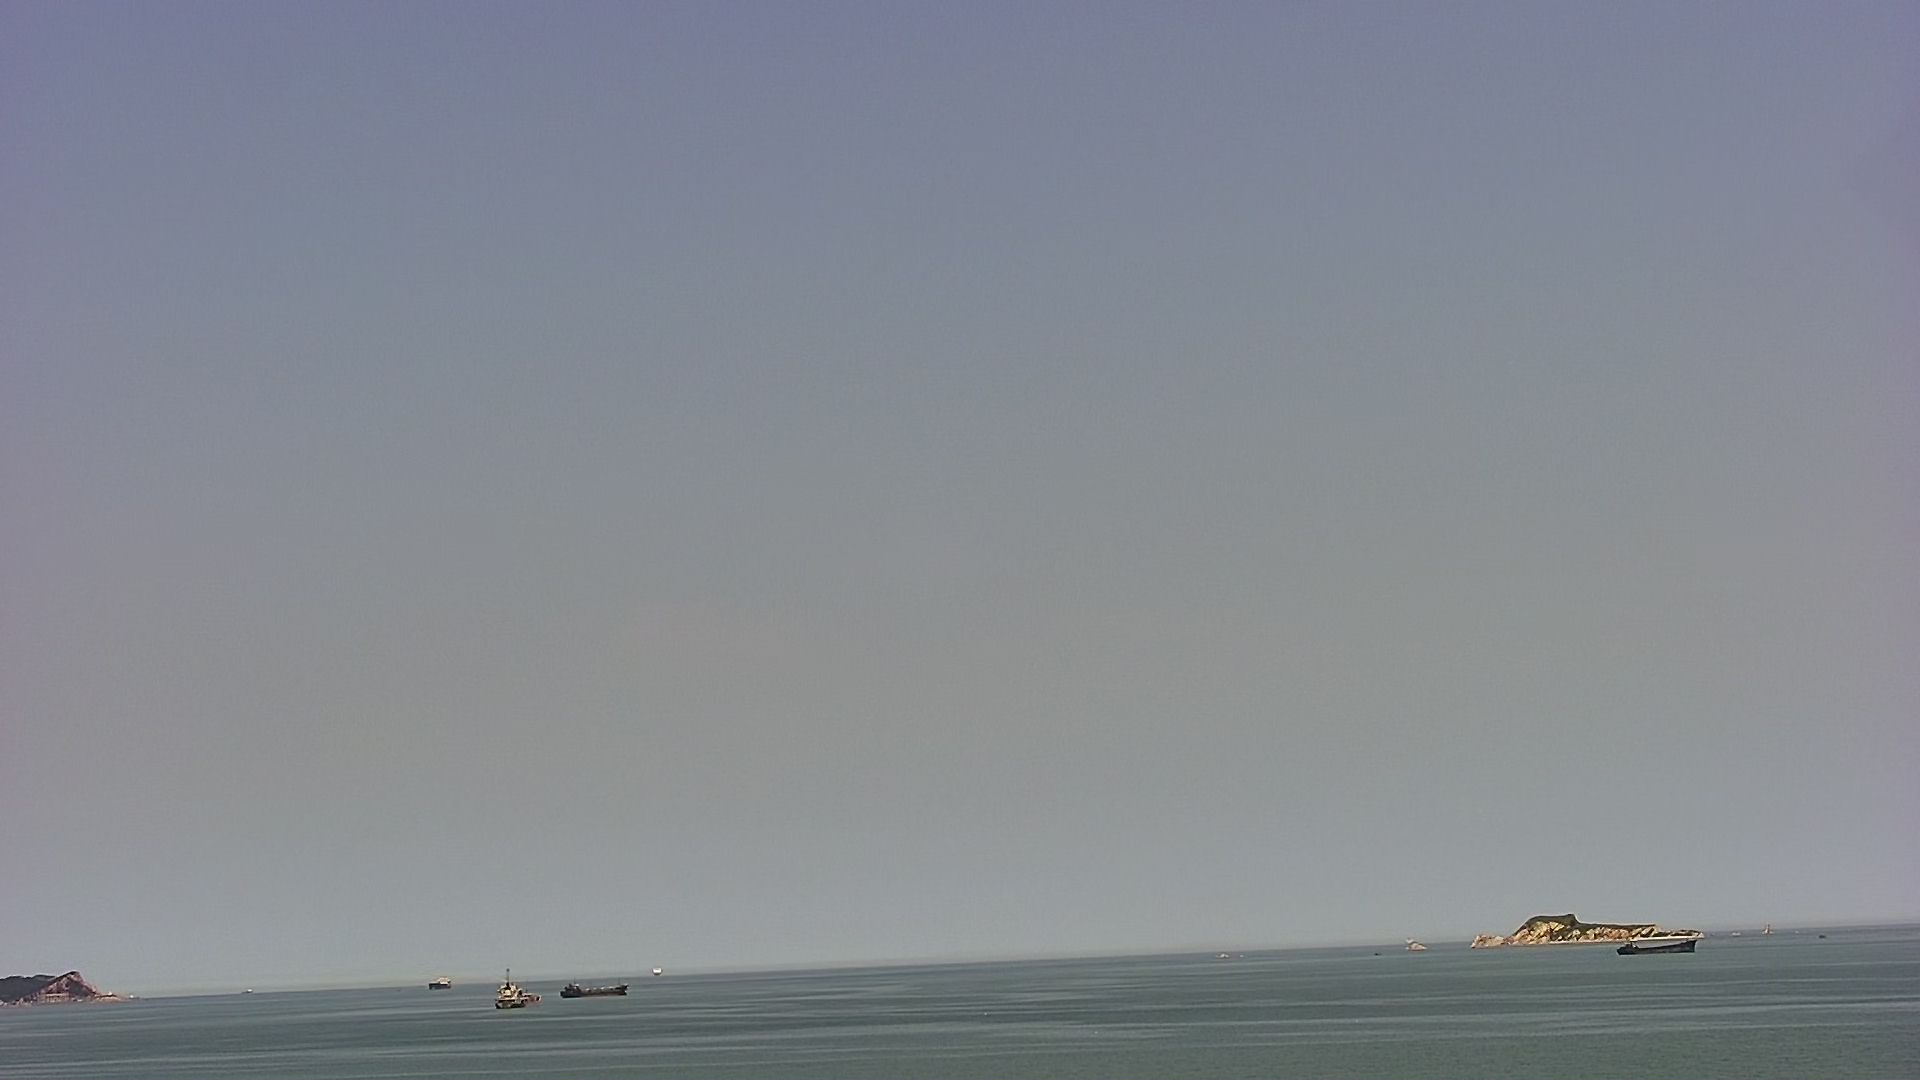rock: (1472, 902, 1714, 940)
